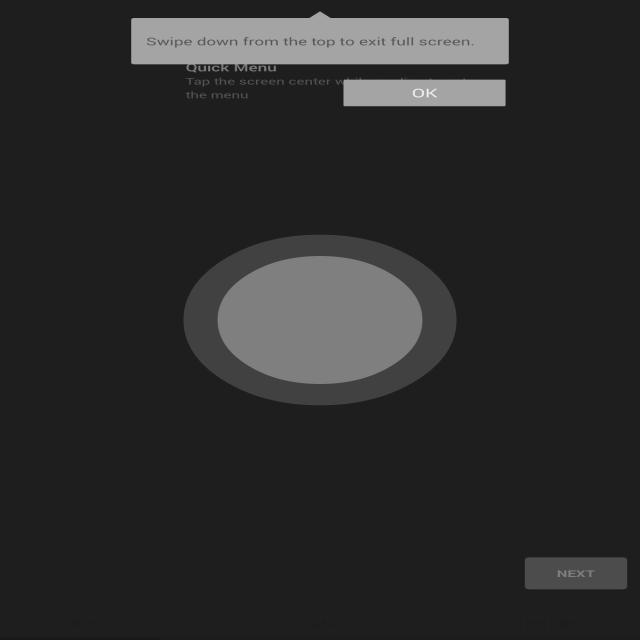ImageButton: (344, 80, 512, 112)
ImageView: (178, 231, 468, 409), (518, 552, 631, 586)
TextView: (134, 21, 504, 59)
